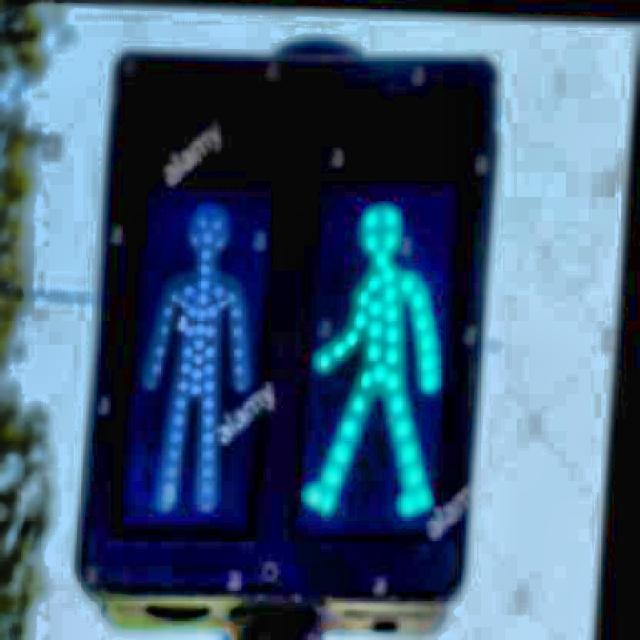semaforo pedestre: (12, 35, 571, 640)
